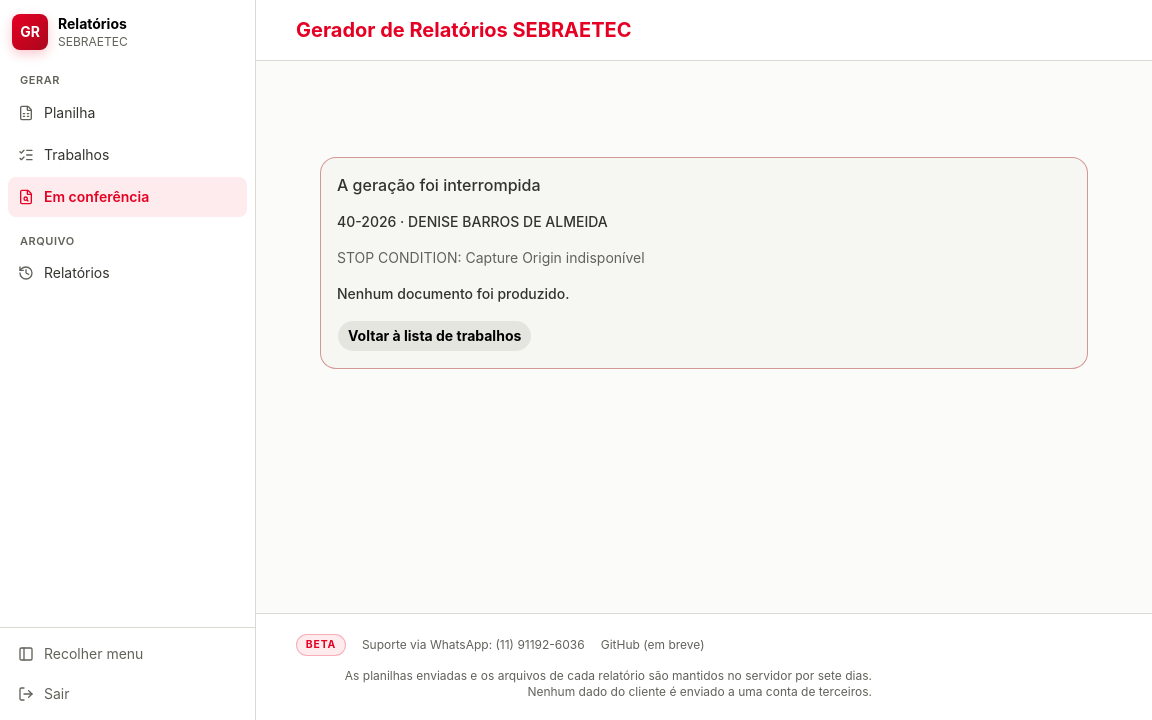
Scenario: resumable generation screens › names a Stop Condition and offers the row list with no download
The width and height of the screenshot is (1152, 720).
Check: the text "A geração foi interrompida" is shown, box [337,175,540,195]
Check: the text "STOP CONDITION: Capture Origin indisponível" is shown, box [337,249,645,266]
Click the button "Voltar à lista de trabalhos". click: (435, 336)
box: [337,320,532,352]
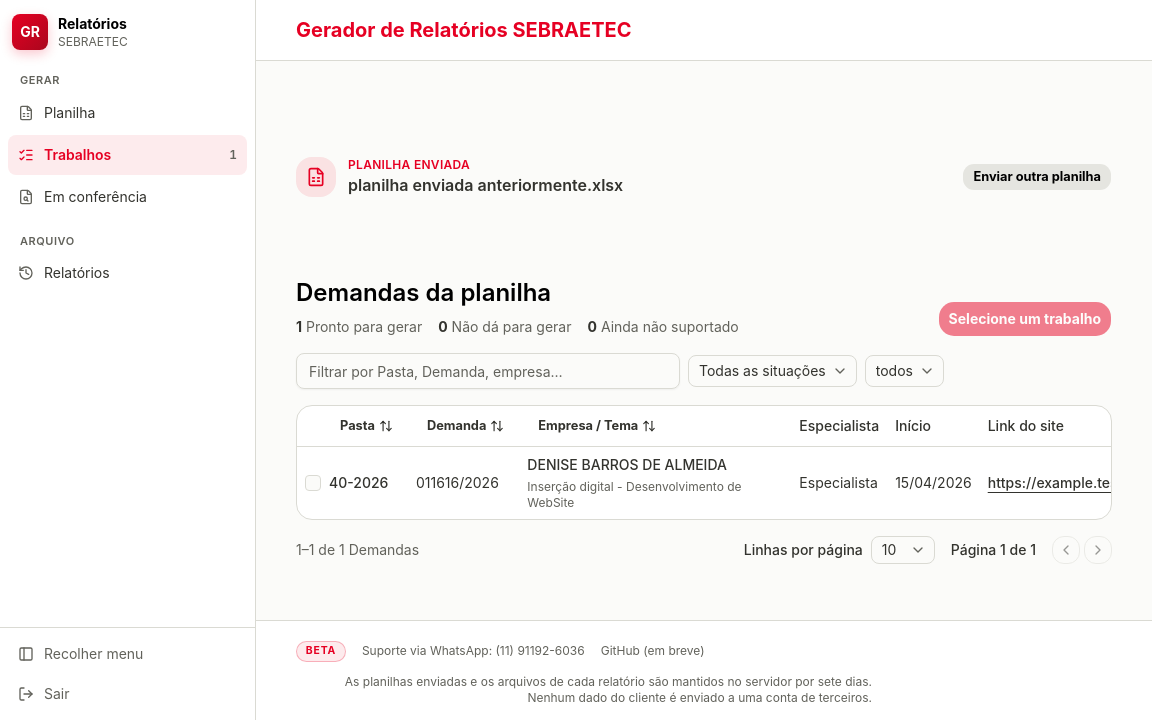
Check: the text "Pronto para gerar" is shown, box [306,318,422,335]
